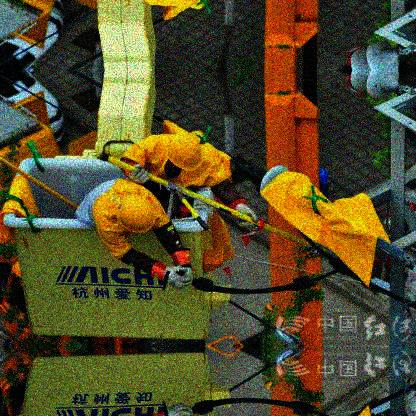helmet: (166, 134, 206, 177), (118, 194, 165, 229)
